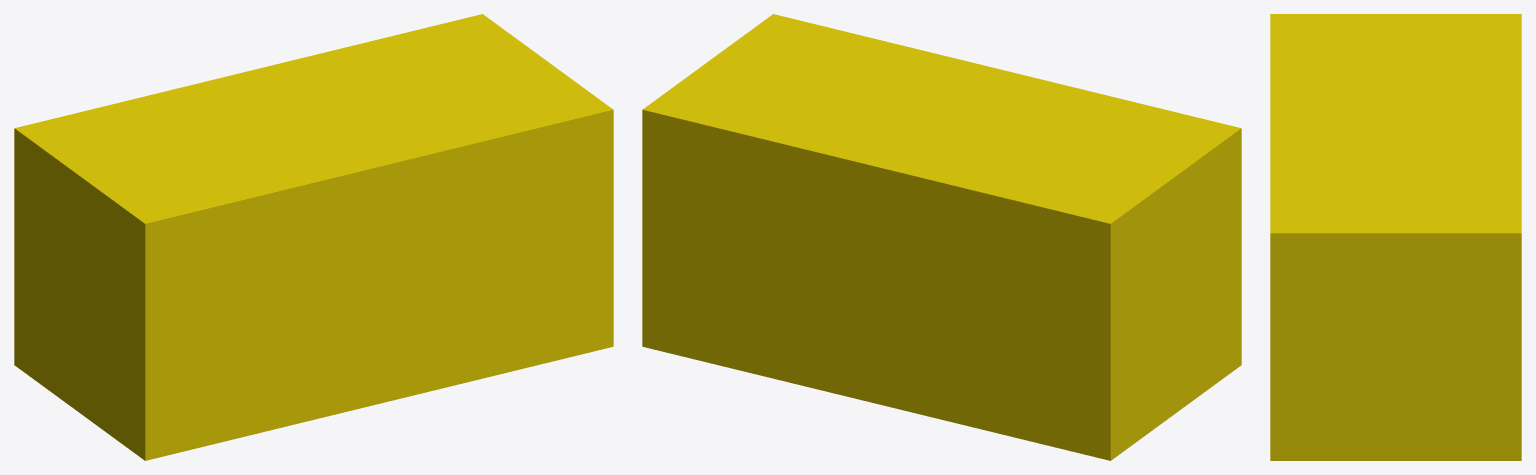
Rendered from blocker.dae.
3 renders of one model, left to right at view 1: azimuth 30°, elevation 25°; view 2: azimuth 150°, elevation 25°; view 3: azimuth 270°, elevation 25°, orthographic. The views are drawn at different scales.
Parts seen in each view (by area): view 1: Cube; view 2: Cube; view 3: Cube.
Boxes of the visible parts, <box> form: Cube: <box>14,14,613,460</box>; Cube: <box>642,14,1241,460</box>; Cube: <box>1270,14,1521,460</box>.
Size of the model in its own units: 0.0705 by 0.0341 by 0.0341.
